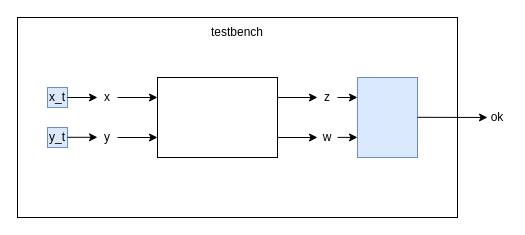
This 525x235 diagram has some shape labels left out. Here are the shapes that lost their labels. From the top down, the centre of each, then its label:
At point 217,117: "RC".
At point 387,117: "checker".
